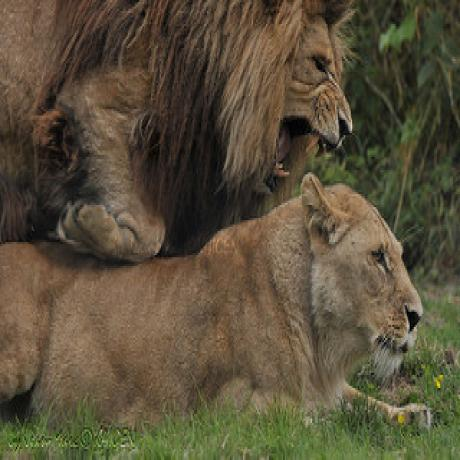Lion: (0, 179, 429, 460), (0, 0, 360, 254)
